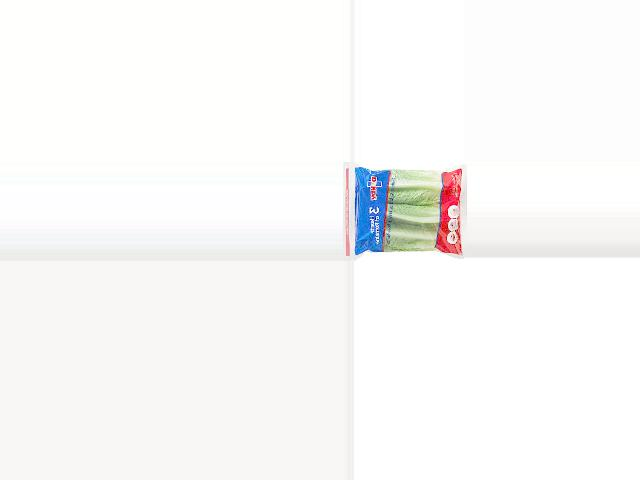lettuce: (349, 162, 466, 256)
